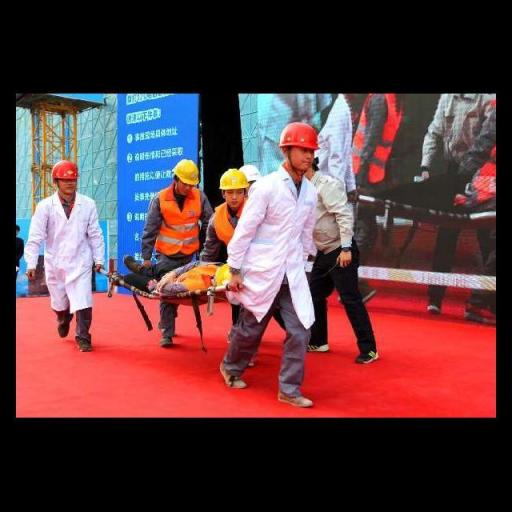Person: (227, 100, 349, 394), (291, 140, 381, 366), (30, 152, 110, 362), (142, 159, 204, 341), (208, 163, 265, 272)
boots: (217, 360, 256, 394), (344, 344, 390, 368), (276, 384, 321, 408), (54, 309, 76, 340), (303, 339, 333, 356), (155, 333, 178, 351), (75, 335, 98, 352)
helmet: (278, 118, 325, 152), (166, 155, 212, 189), (48, 156, 84, 182), (218, 167, 249, 192), (234, 161, 264, 181)
none: (241, 171, 317, 318), (26, 182, 102, 328), (312, 160, 360, 257), (228, 272, 255, 297), (332, 247, 359, 266), (86, 257, 113, 275), (24, 264, 50, 282)
vest: (153, 184, 208, 257), (210, 190, 264, 264), (170, 262, 227, 296)
